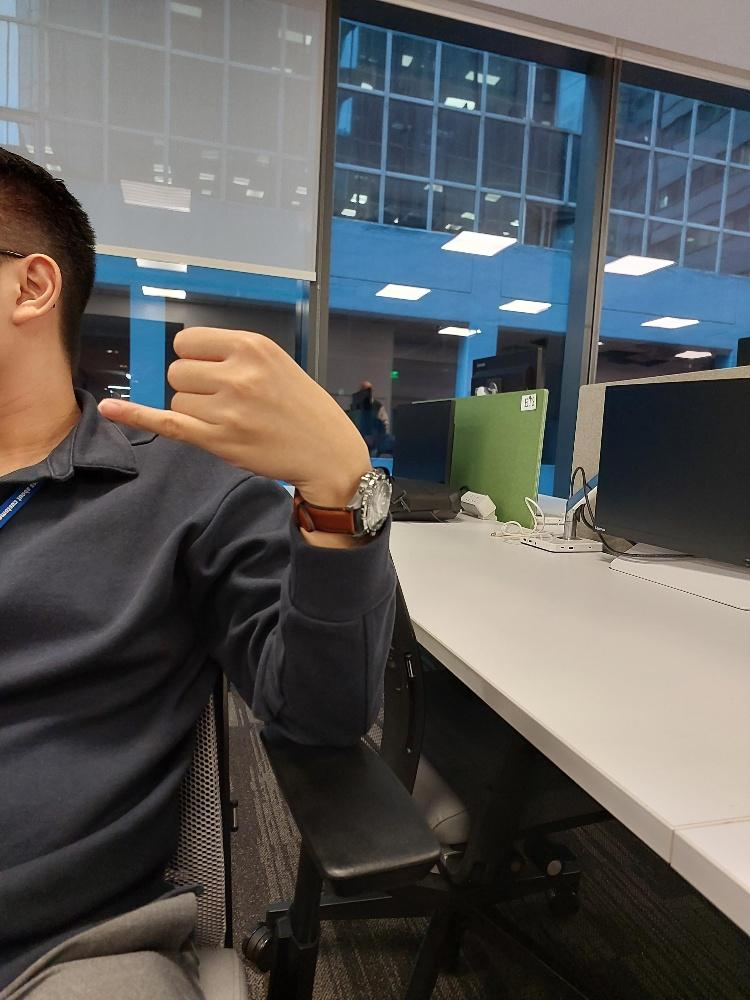j: (97, 323, 330, 482)
